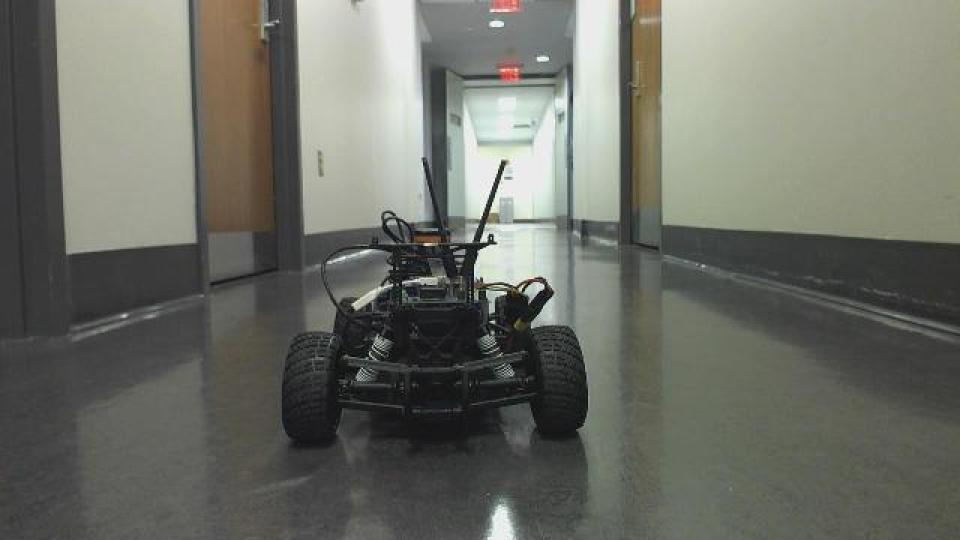car: (276, 155, 591, 447)
